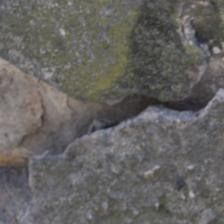Crack: (14, 42, 205, 120)
